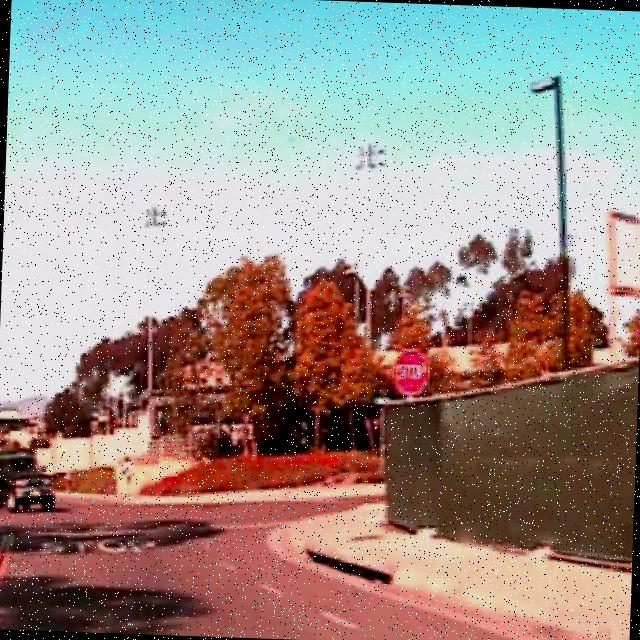Stop: (390, 343, 432, 400)
